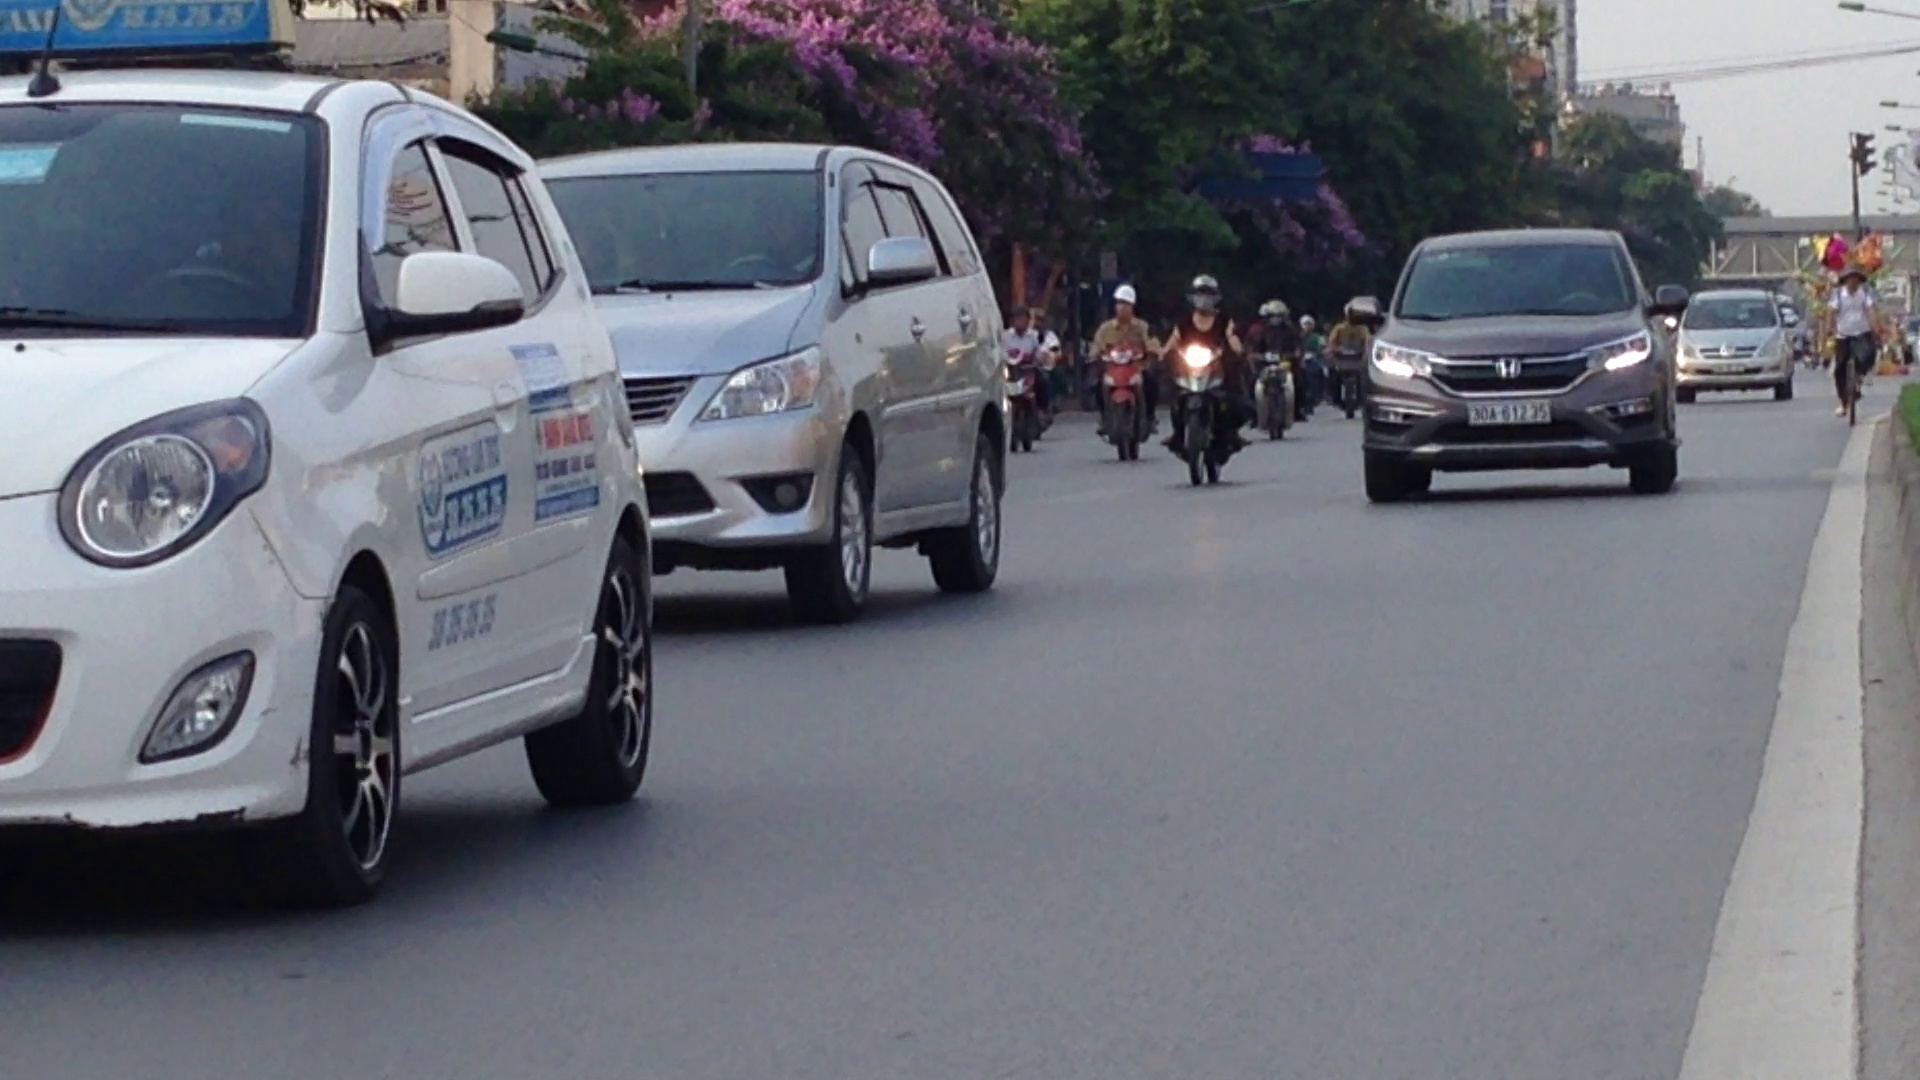person: (1462, 395, 1556, 428)
